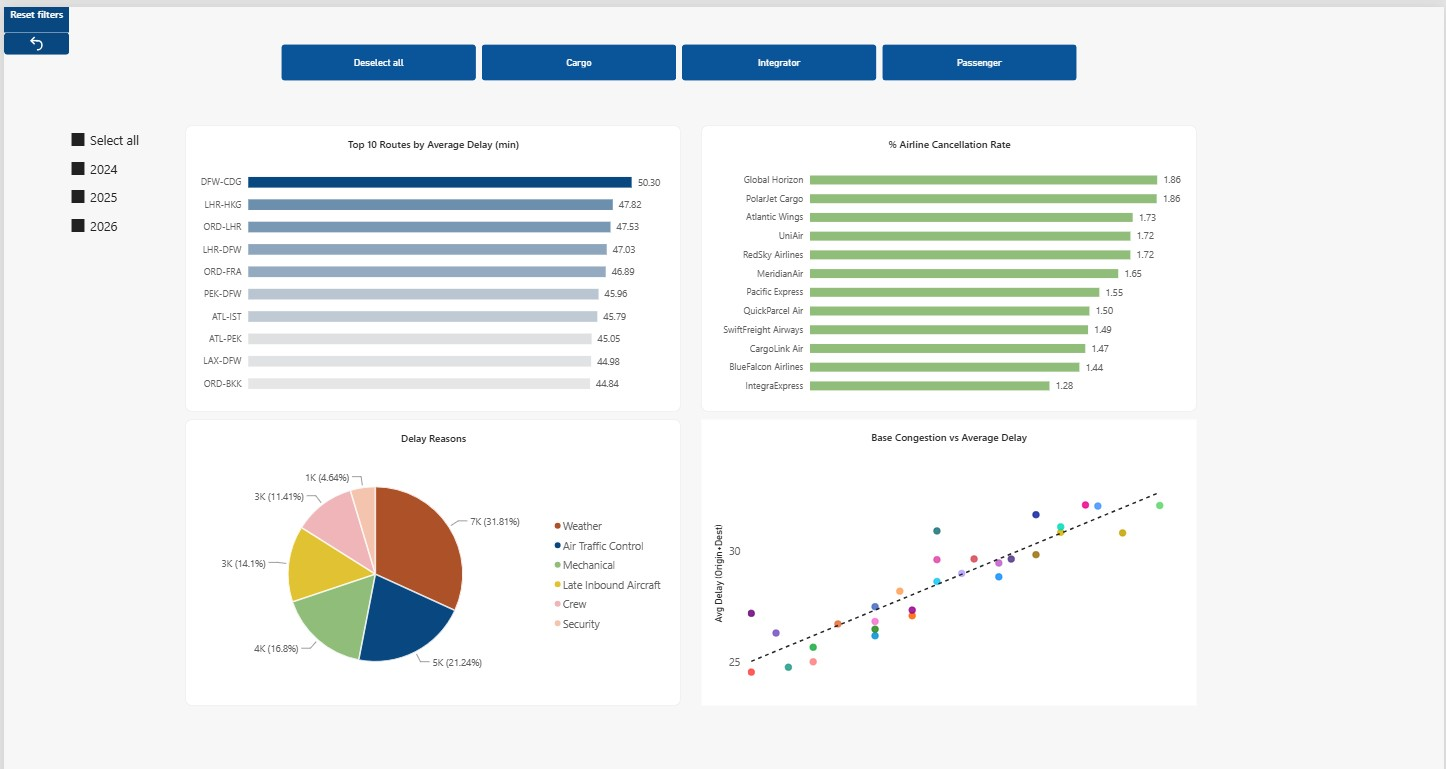

The dashboard page shown, as its layout file describes it:
{"tool":"powerbi","page":{"name":"Flight Operations","canvas":[1920,1080],"ordinal":2},"visuals":[{"type":"shape","box":[0,0,178.6,1080],"z":0},{"type":"clusteredBarChart","title":"Top 10 Routes by Average Delay (min)","fields":{"Category":["flights.Route Name"],"Y":["Measure Table.Avg Delay (Origin+Dest)"]},"box":[329.3,158.6,660,381.2],"z":1000},{"type":"barChart","title":"% Airline Cancellation Rate","fields":{"Category":["airlines.name"],"Y":["Measure Table.CancelledCancellationAirline Cancellation Rate"]},"box":[1018.1,158.7,660,381],"z":2000},{"type":"pieChart","title":"Delay Reasons","fields":{"Category":["flights.delay_reason"],"Y":["Measure Table.Total Flights"]},"box":[329.3,549.2,660,381],"z":3000},{"type":"scatterChart","title":"Base Congestion vs Average Delay","fields":{"Series":["airports.iata_code"],"X":["airports.base_congestion"],"Y":["Measure Table.Avg Delay (Origin+Dest)"]},"box":[1018.1,549.2,660,381],"z":4000},{"type":"advancedSlicerVisual","fields":{"Values":["airlines.carrier_type"]},"box":[458,50,1061.7,48.3],"z":5000},{"type":"slicer","title":"Year","fields":{"Values":["flights.Year"]},"box":[31.4,158.6,120,211.7],"z":6000},{"type":"actionButton","title":"Reset filters","box":[2,0,175,65],"z":7000},{"type":"pageNavigator","box":[10,860,158,200],"z":8000}]}

Visuals, with their boxes on the page's 1920x1080 design canvas (x1, y1, x2, y2). These are canvas units, not pixel positions in the 1446x769 screenshot, which may show the page scaled, cropped or inside an application window:
shape: [left=0, top=0, right=179, bottom=1080]
"Top 10 Routes by Average Delay (min)" clusteredBarChart: [left=329, top=159, right=989, bottom=540]
"% Airline Cancellation Rate" barChart: [left=1018, top=159, right=1678, bottom=540]
"Delay Reasons" pieChart: [left=329, top=549, right=989, bottom=930]
"Base Congestion vs Average Delay" scatterChart: [left=1018, top=549, right=1678, bottom=930]
advancedSlicerVisual - airlines.carrier_type: [left=458, top=50, right=1520, bottom=98]
"Year" slicer: [left=31, top=159, right=151, bottom=370]
"Reset filters" actionButton: [left=2, top=0, right=177, bottom=65]
pageNavigator: [left=10, top=860, right=168, bottom=1060]
